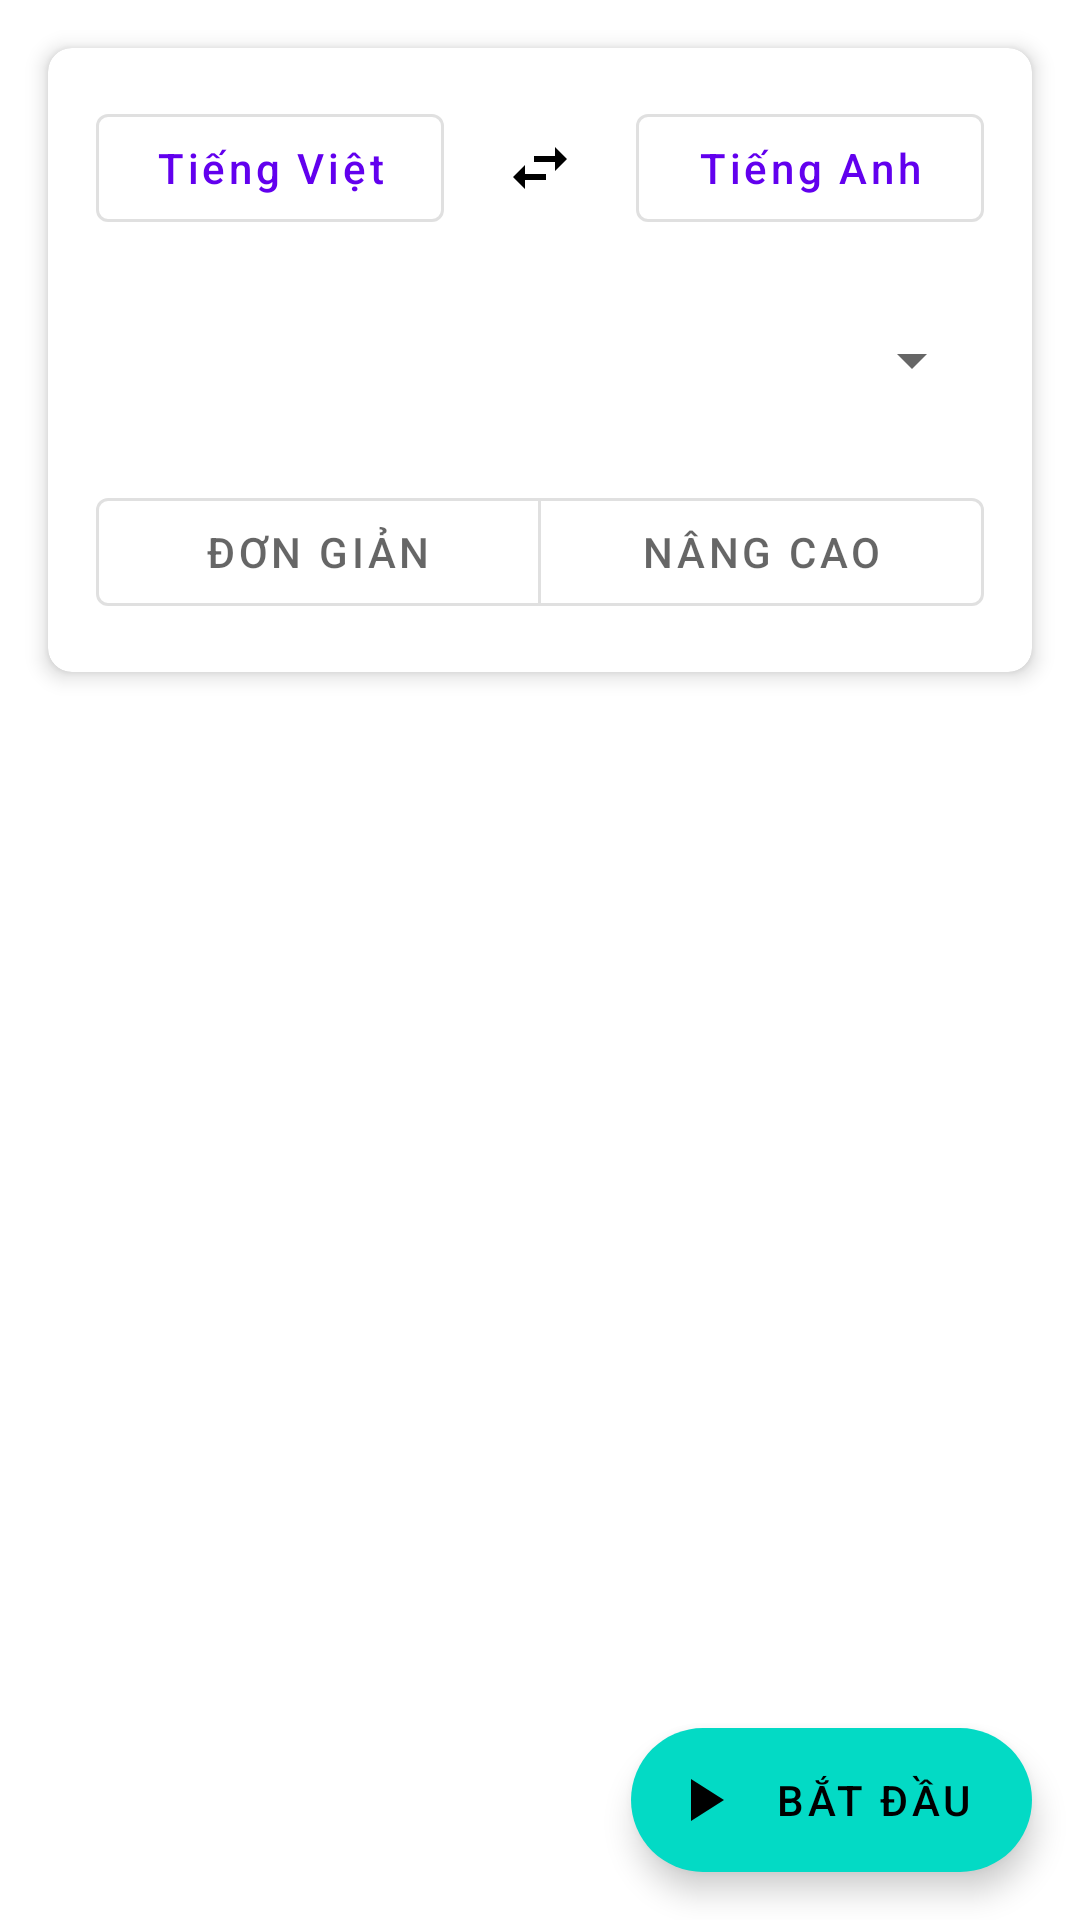

Point at icon controls on the screen. Image size 1080 x 1920, points as (x,y).
Hoán đổi ngôn ngữ: (540,168)
